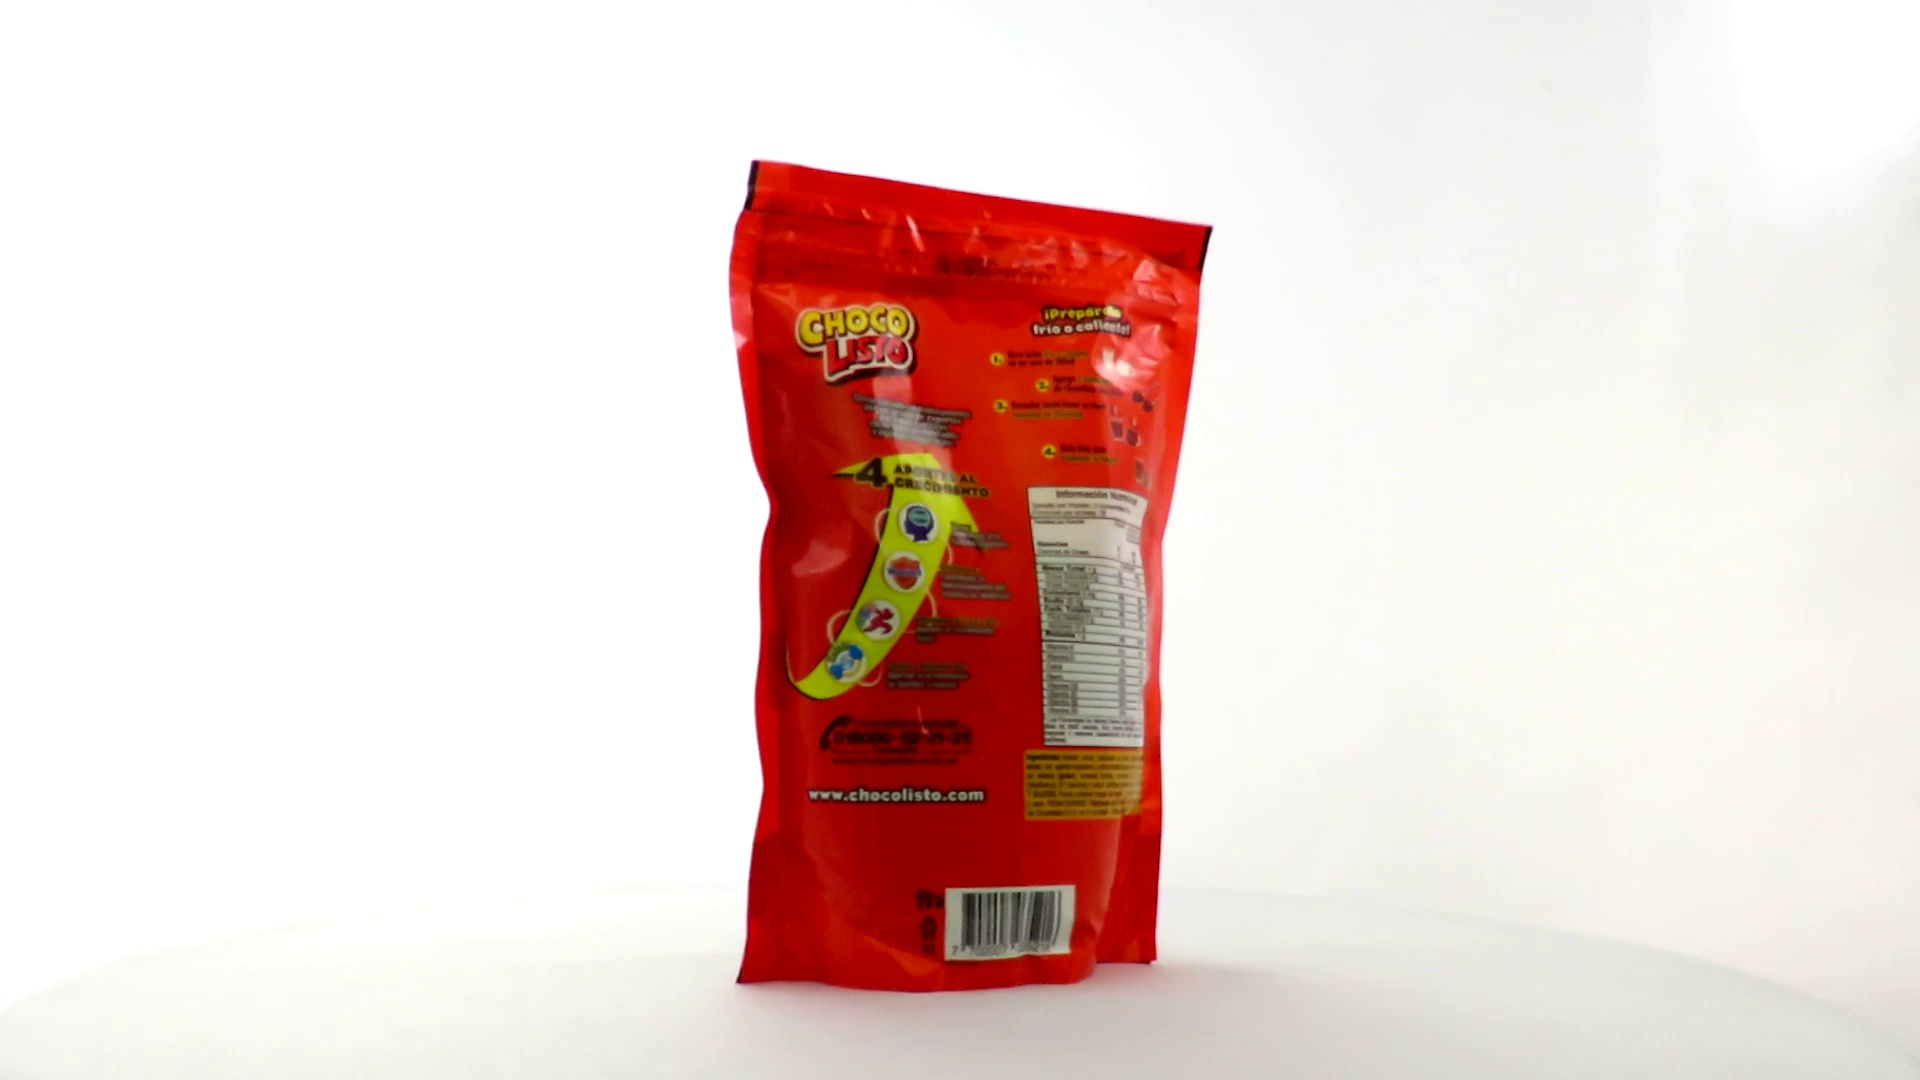COL0170103DYP36000: (723, 156, 1218, 1000)
